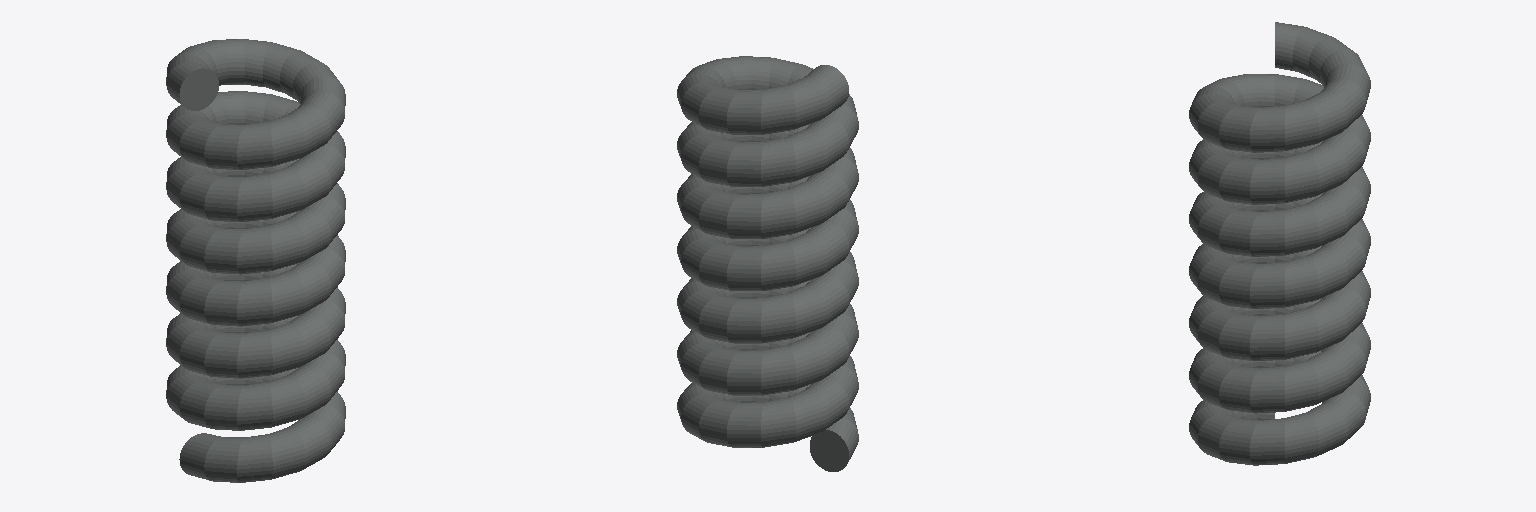
The picture shows the model from 3 angles: view 1: azimuth 30°, elevation 25°; view 2: azimuth 150°, elevation 25°; view 3: azimuth 270°, elevation 25°; orthographic projection.
Parts seen in each view (by area): view 1: 円; view 2: 円; view 3: 円.
Boxes of the visible parts, x1,y1,x2,y2 form: 円: [166, 39, 345, 482]; 円: [677, 56, 858, 471]; 円: [1189, 22, 1370, 465].
Bounding box in the file's own units: 0.7925 × 1.95 × 0.7925.
Materials: 1 (1 with a texture image).